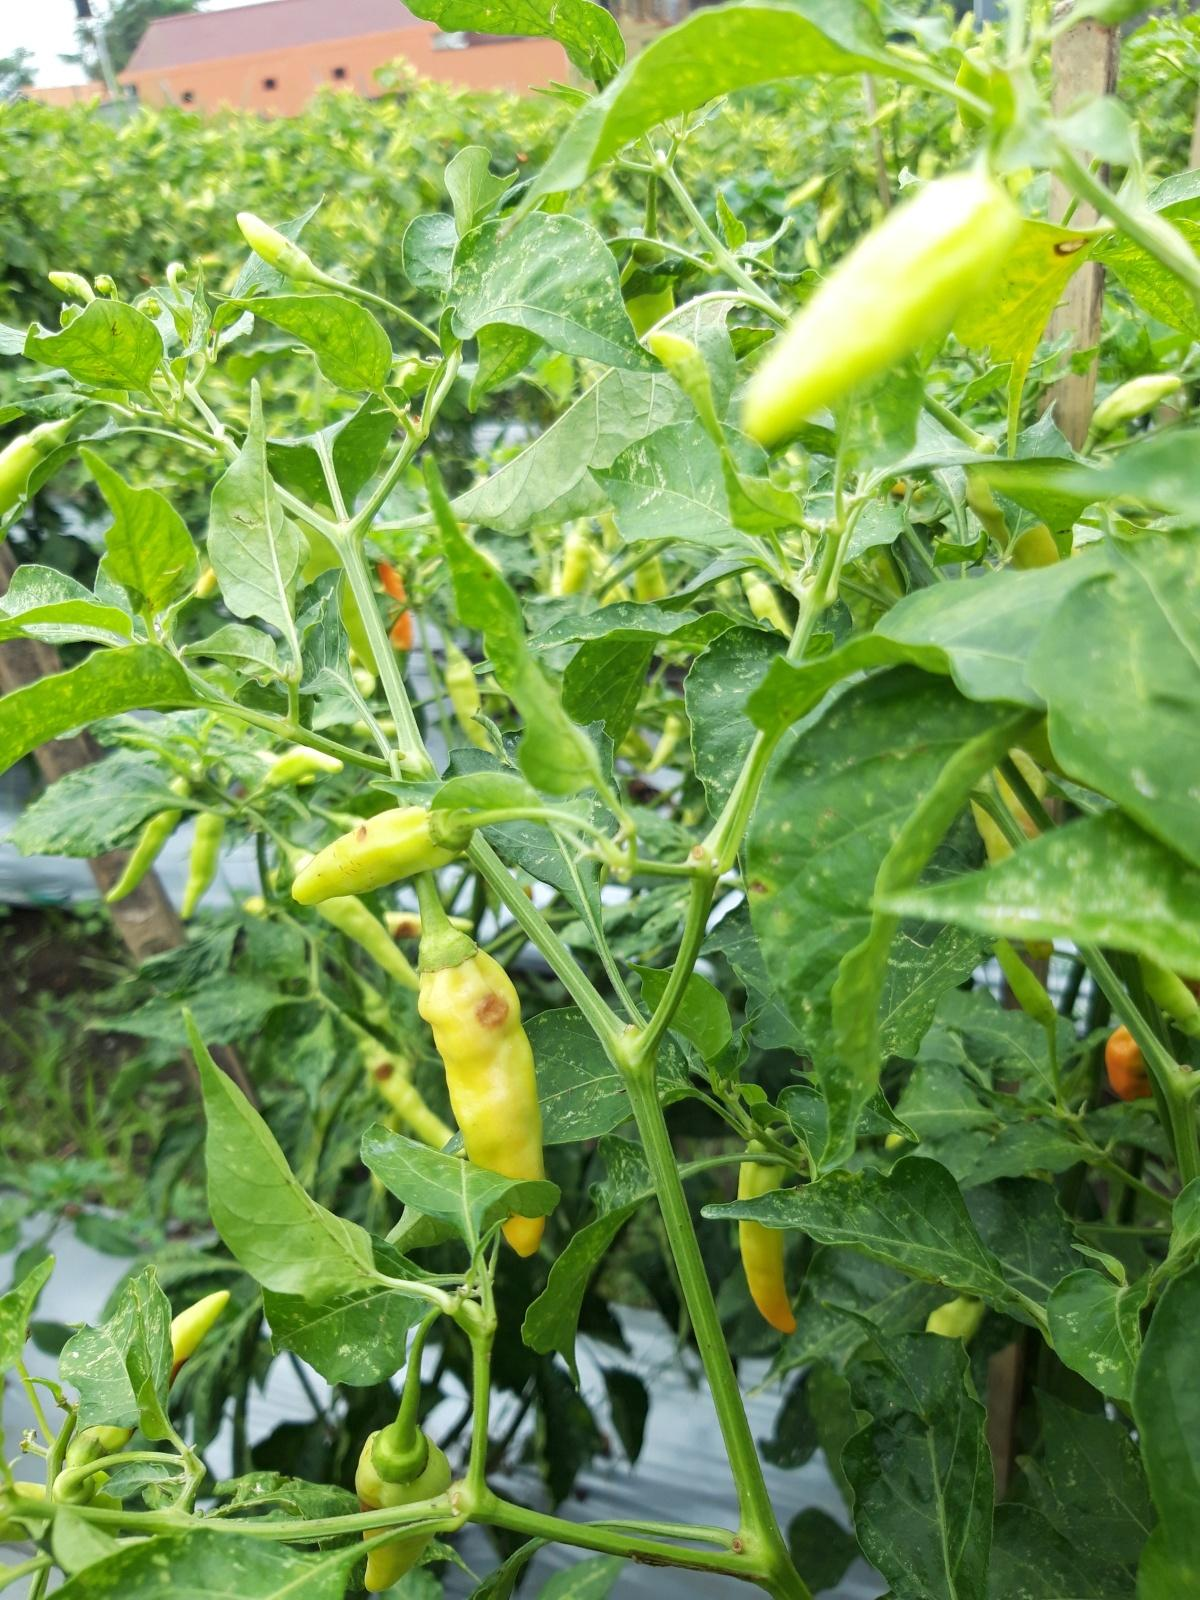cabai_normal: (742, 165, 1020, 445), (735, 1131, 799, 1332), (1092, 374, 1181, 435), (233, 209, 311, 277), (647, 333, 702, 380)
lalat_buah: (416, 929, 547, 1259), (292, 808, 466, 907), (355, 1424, 453, 1592)
